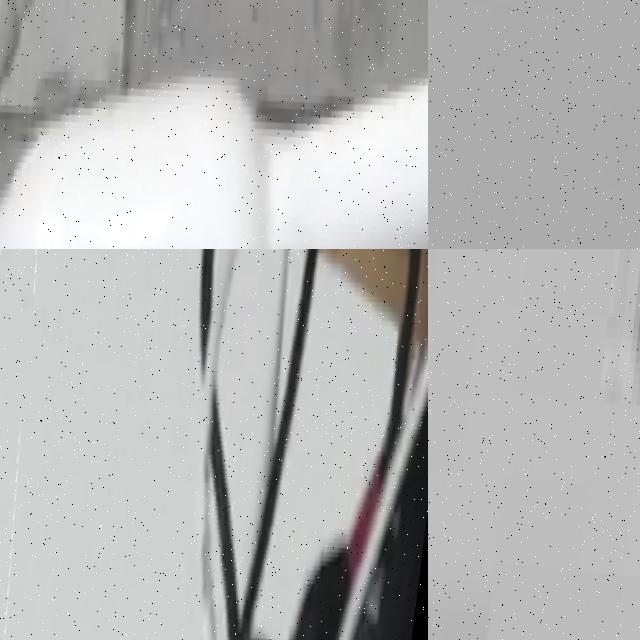drone: (0, 249, 428, 640), (0, 0, 428, 249)
